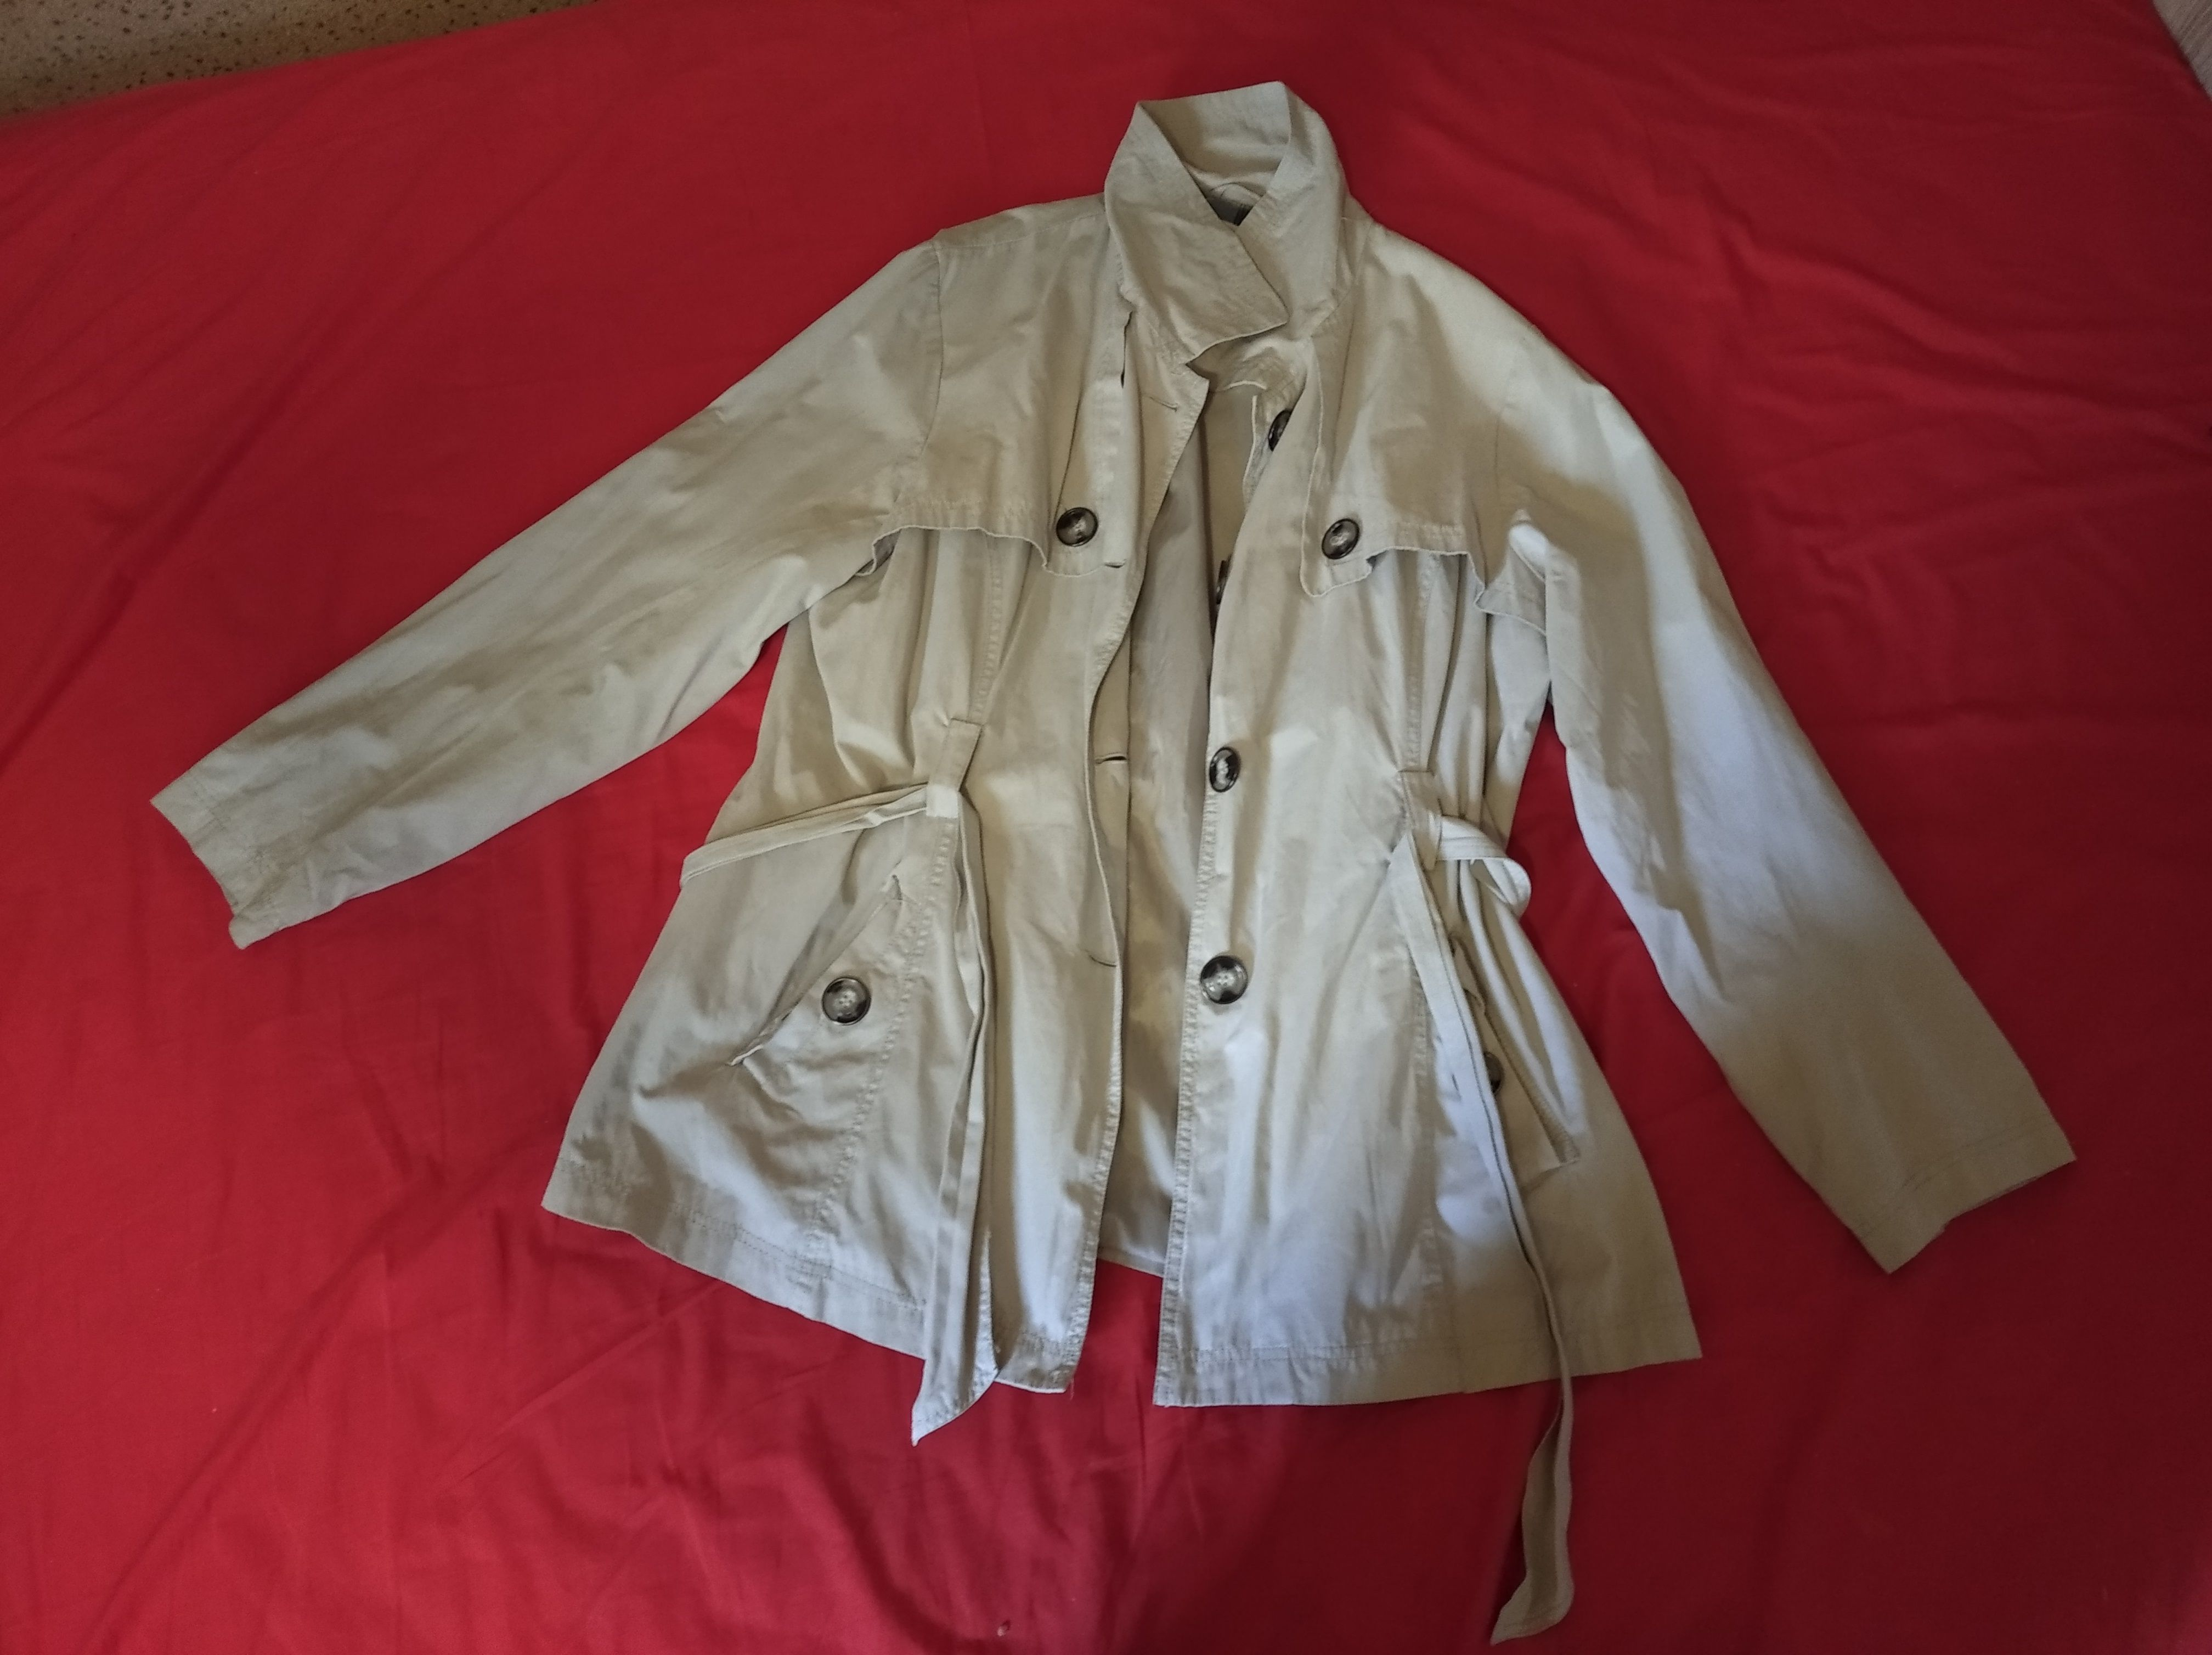clothes: (155, 73, 2094, 1439)
